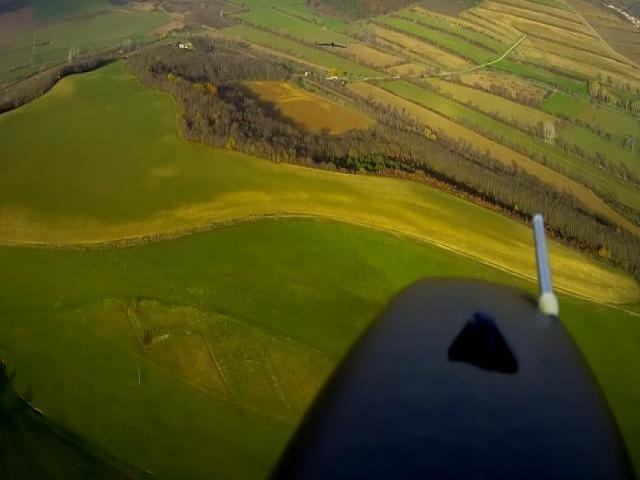iha: (316, 43, 346, 48)
